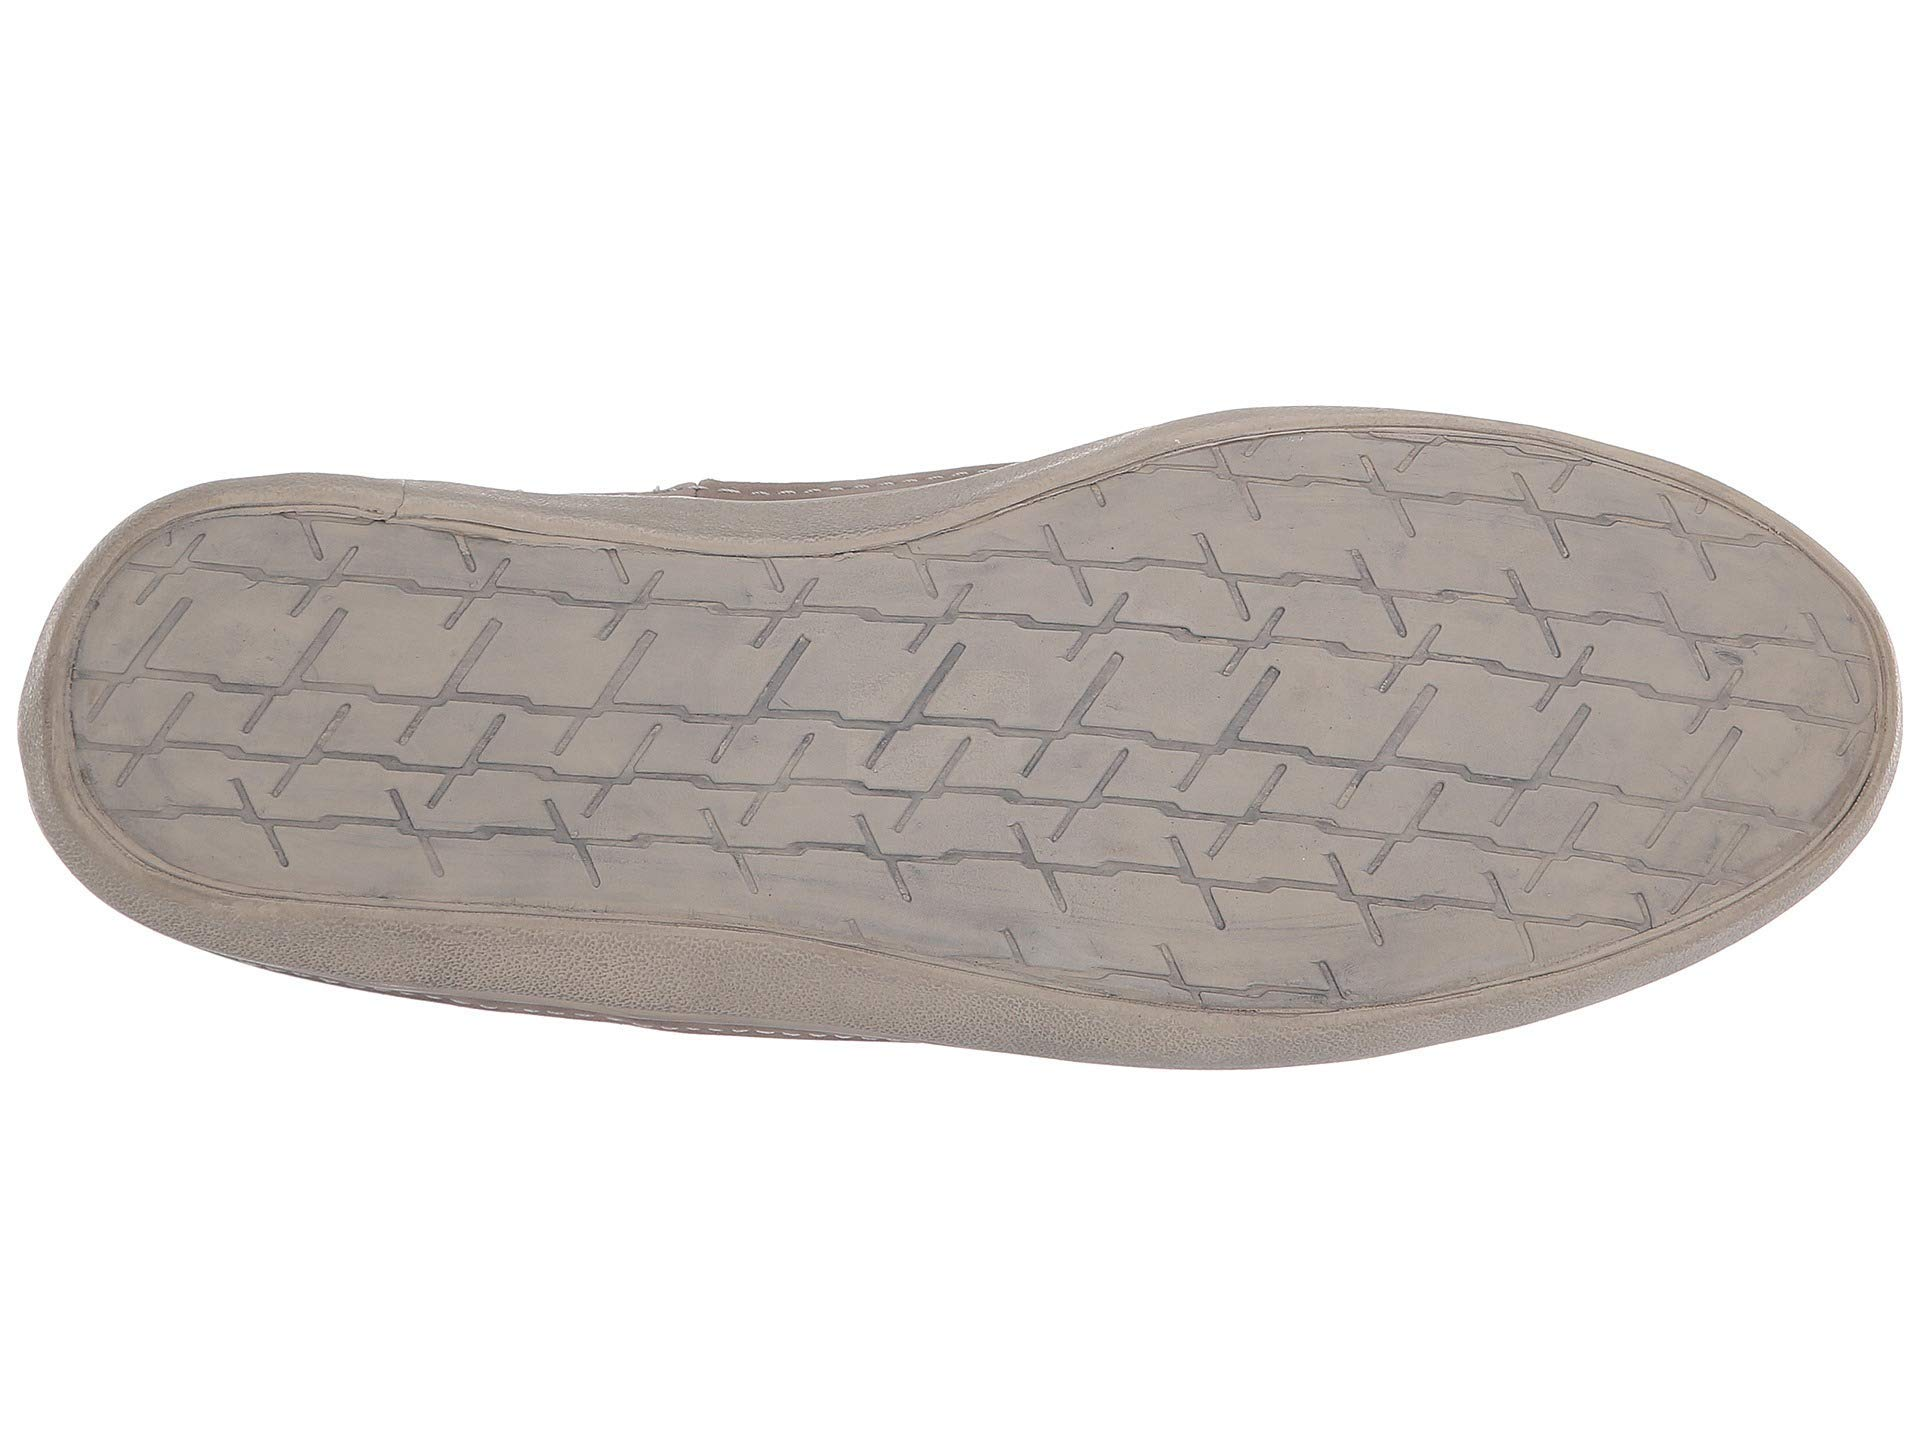line: (203, 543, 1752, 862)
quad: (203, 543, 1752, 862)
